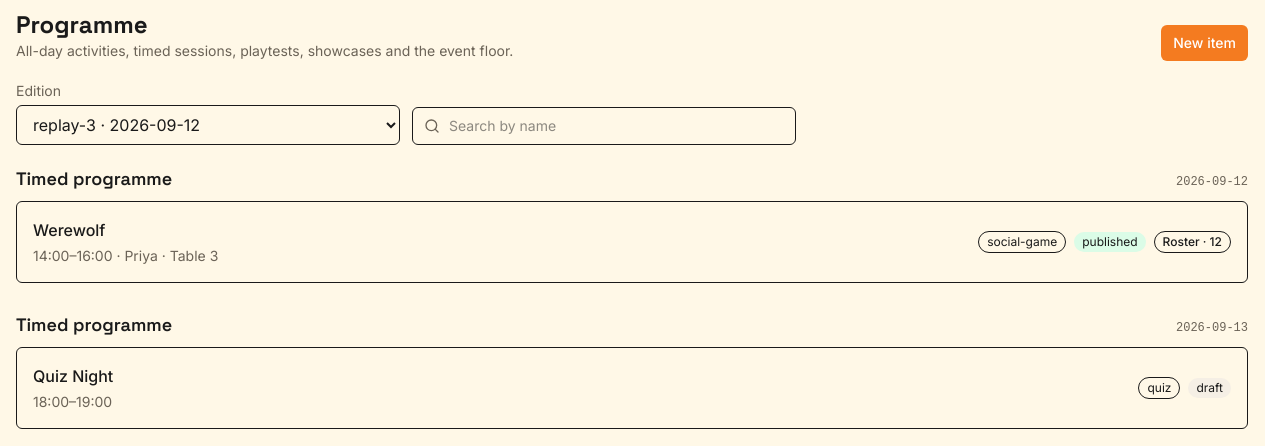
Test: finding a programme item by name › says nothing matched rather than claiming the edition has no programme
The image size is (1265, 446).
Expected: the text "Werewolf" is shown, x1=33 y1=220 x2=105 y2=240
Type "chess" into the search field named "Search the programme" at [604, 126], box x1=412 y1=107 x2=796 y2=145
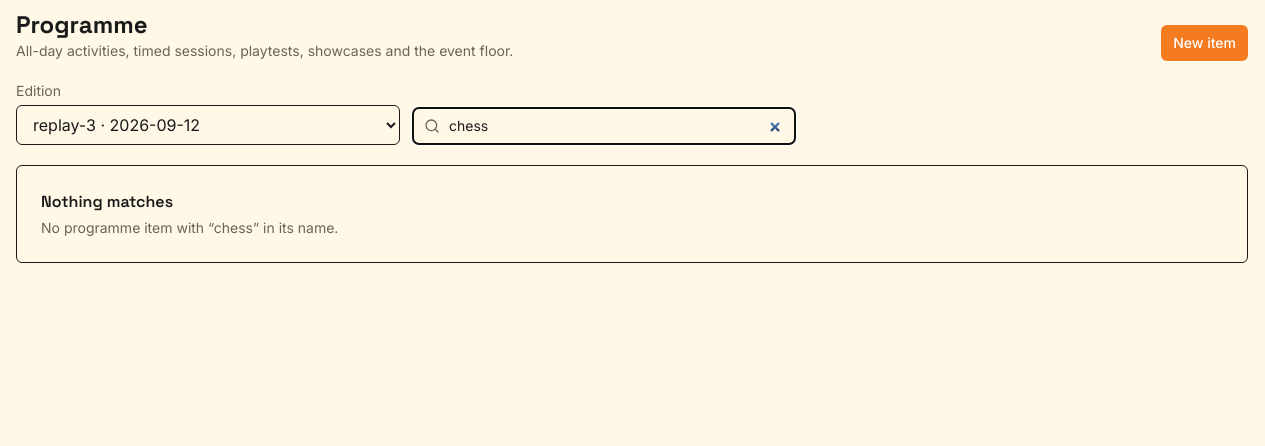
Expected: the heading "Nothing matches" is shown, x1=41 y1=191 x2=173 y2=212
